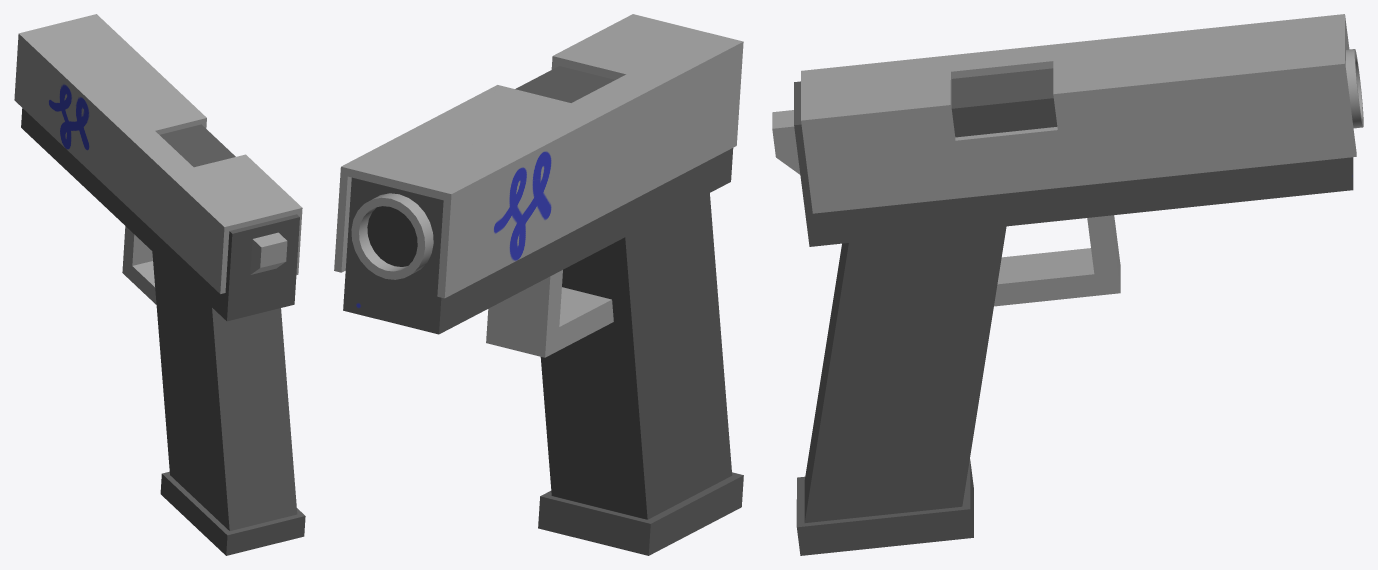
Rendered from gun3.glb.
3 renders of one model, left to right at view 1: azimuth 30°, elevation 25°; view 2: azimuth 150°, elevation 25°; view 3: azimuth 270°, elevation 25°, orthographic. The views are drawn at different scales.
Visible parts, largest first — view 1: mesh_id6.002, mesh_id5.002; view 2: mesh_id6.002, mesh_id5.002, mesh_id7.002; view 3: mesh_id5.002, mesh_id6.002.
Part boxes in pixels (x1,y1,x2,y2): mesh_id6.002: [21, 108, 305, 555]; mesh_id5.002: [14, 14, 302, 304]; mesh_id6.002: [343, 66, 743, 555]; mesh_id5.002: [334, 14, 743, 357]; mesh_id7.002: [367, 206, 417, 266]; mesh_id5.002: [772, 14, 1363, 306]; mesh_id6.002: [794, 68, 1353, 555].
Size of the model in its own units: 0.2823 by 1.26 by 1.38.
Materials: 3 (3 with a texture image).
